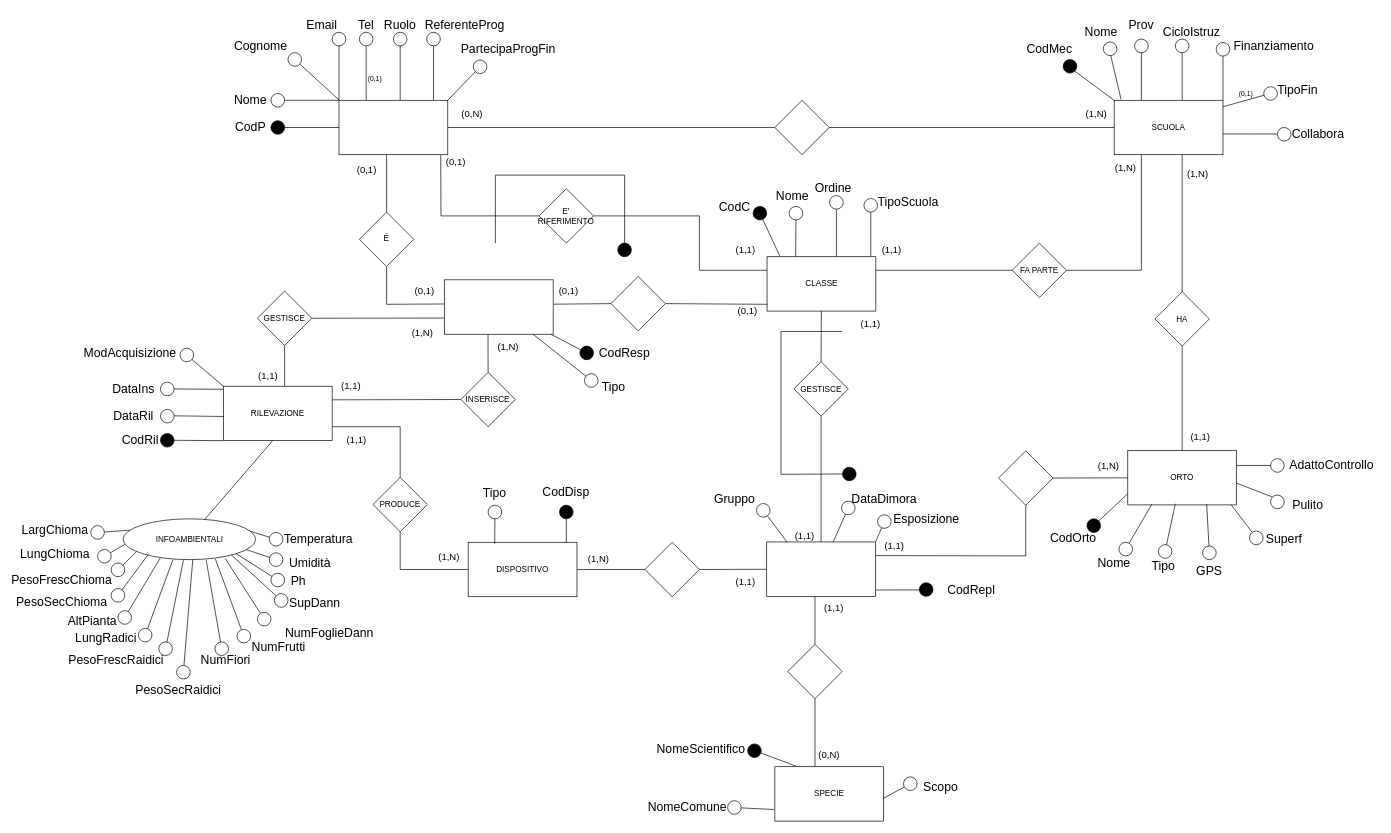
Some shapes in this 1391 by 833 pixel diagram are drawn without their labels. The shapes that lost their labels are listed below. From the top down, each one's centre as x and y in pixels, then its label:
the point at 393,127: PERSONA
the point at 801,127: E' REFERENTE
the point at 498,306: RESPONSABILE
the point at 637,303: FA DA
the point at 1025,477: E' CONTENUTA
the point at 671,569: ASSOCIATO A
the point at 821,568: REPLICA
the point at 814,671: APPARTIENE
